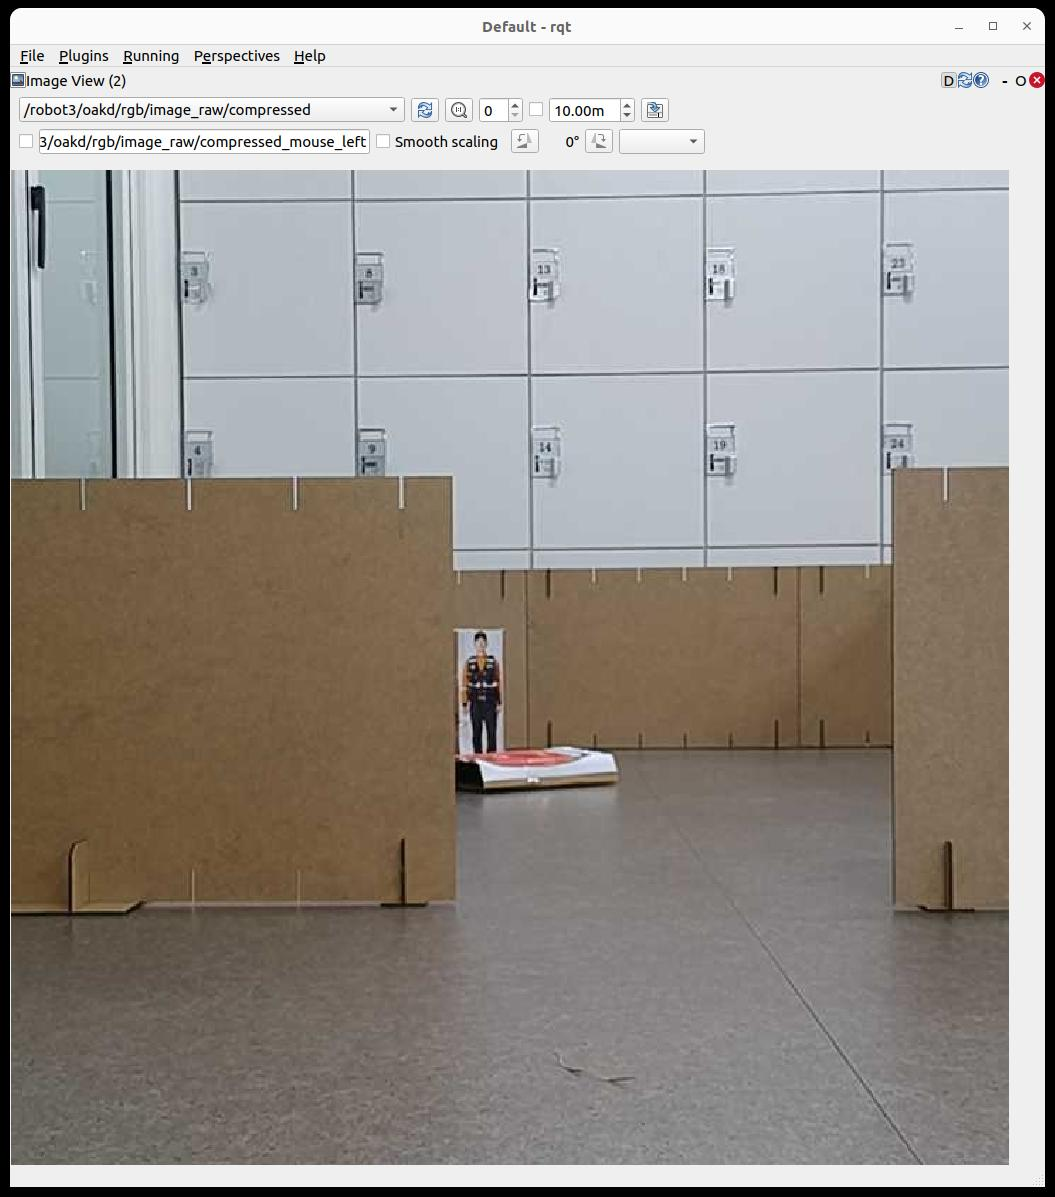AED: (456, 746, 618, 790)
Responder: (462, 633, 500, 752)
